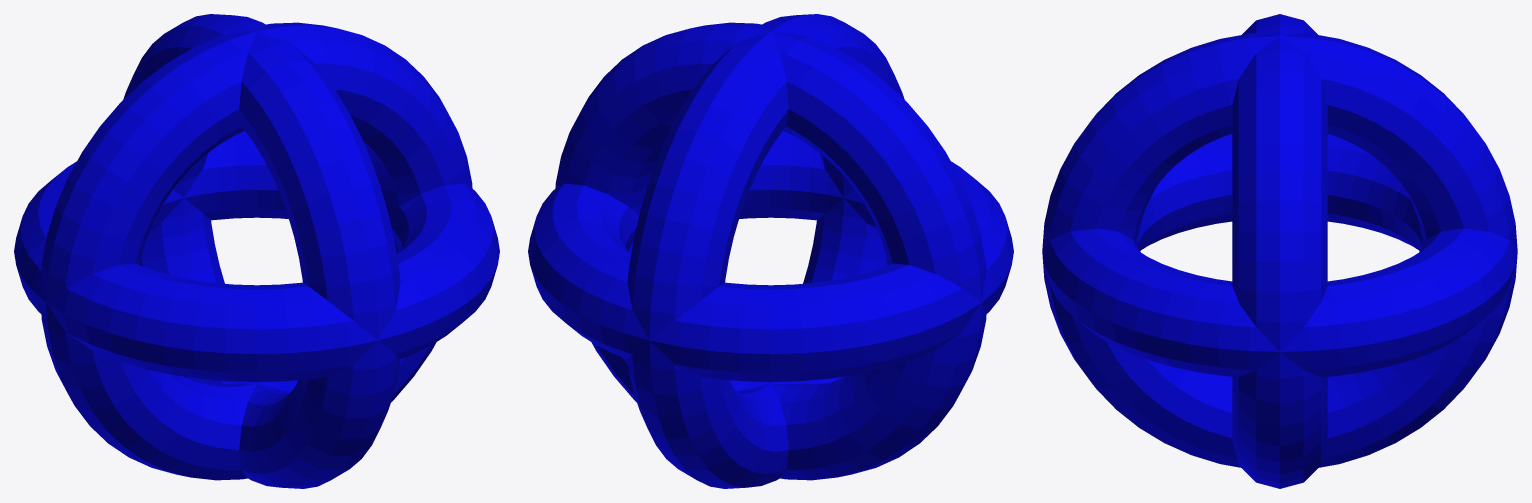
File: Nought.fbx
3 renders of one model, left to right at view 1: azimuth 30°, elevation 25°; view 2: azimuth 150°, elevation 25°; view 3: azimuth 270°, elevation 25°, orthographic. The views are drawn at different scales.
Parts seen in each view (by area): view 1: Torus; view 2: Torus; view 3: Torus.
Boxes of the visible parts, x1=… form: Torus: x1=14, y1=14, x2=499, y2=488; Torus: x1=528, y1=14, x2=1013, y2=488; Torus: x1=1042, y1=14, x2=1517, y2=488.
Bounding box in the file's own units: 192 × 192 × 192.
